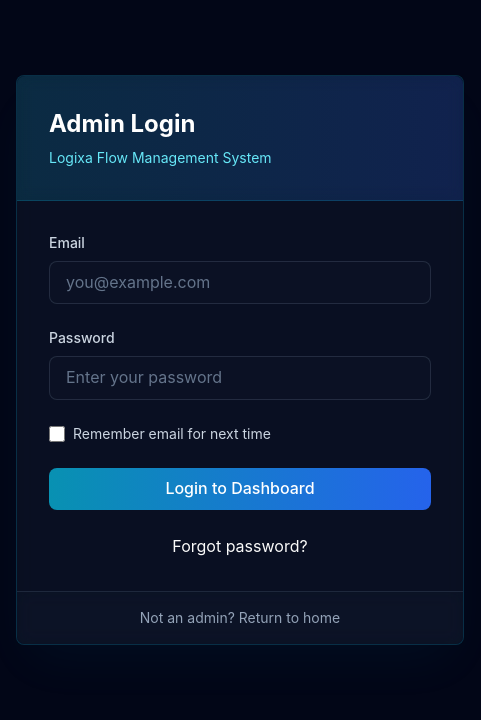
Scenario: Admin login › does not enter the dashboard when the backend rejects admin access
This screenshot has width=481, height=720.
Type "user@example.com" into the field labelled "Email" at (240, 283), box [49,261,431,304]
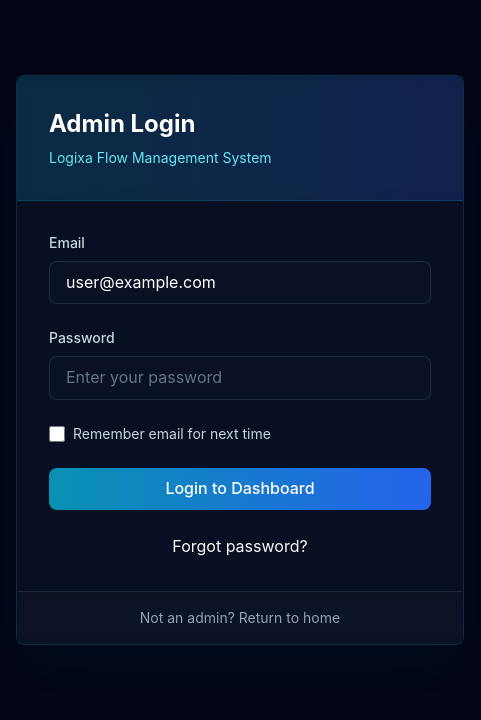
Type "password" into the password field labelled "Password" at (240, 378), box [49,356,431,400]
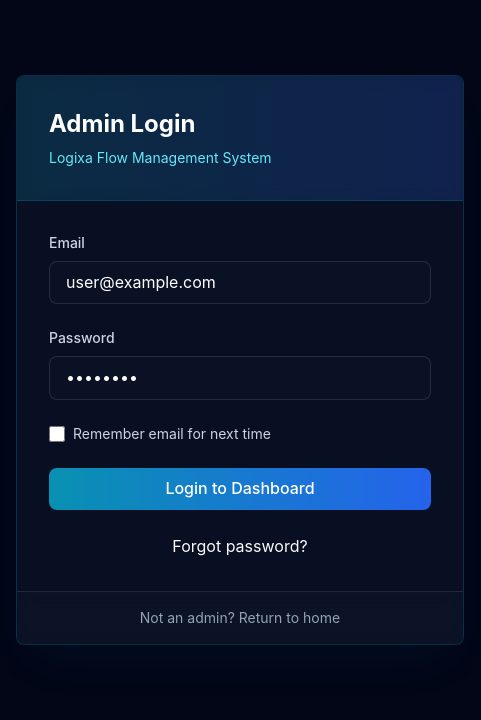
Submit the form "Login to Dashboard", box [17,201,463,591]
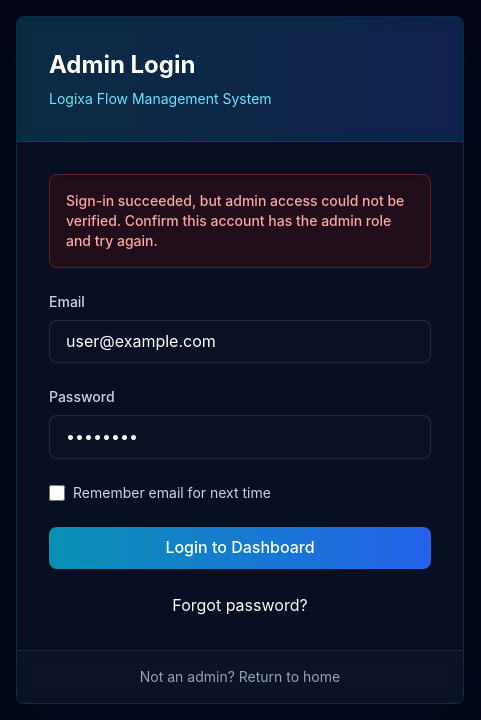
expect the text "admin access could not be verified" is shown: met, box [66,192,404,249]
